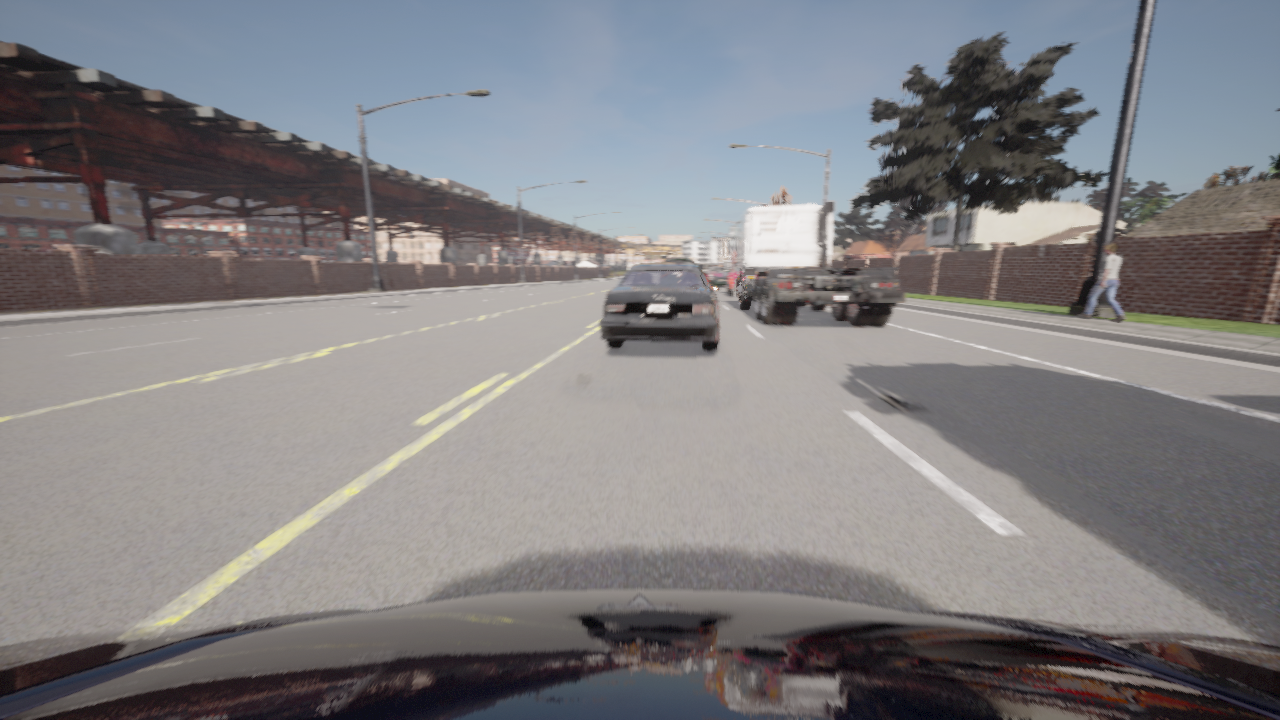cyclist: (0, 588, 1279, 719), (729, 200, 905, 326), (600, 263, 719, 349), (725, 251, 737, 296), (709, 272, 728, 285), (705, 267, 721, 280), (665, 258, 695, 263)
pedestrian: (1078, 243, 1125, 320)
